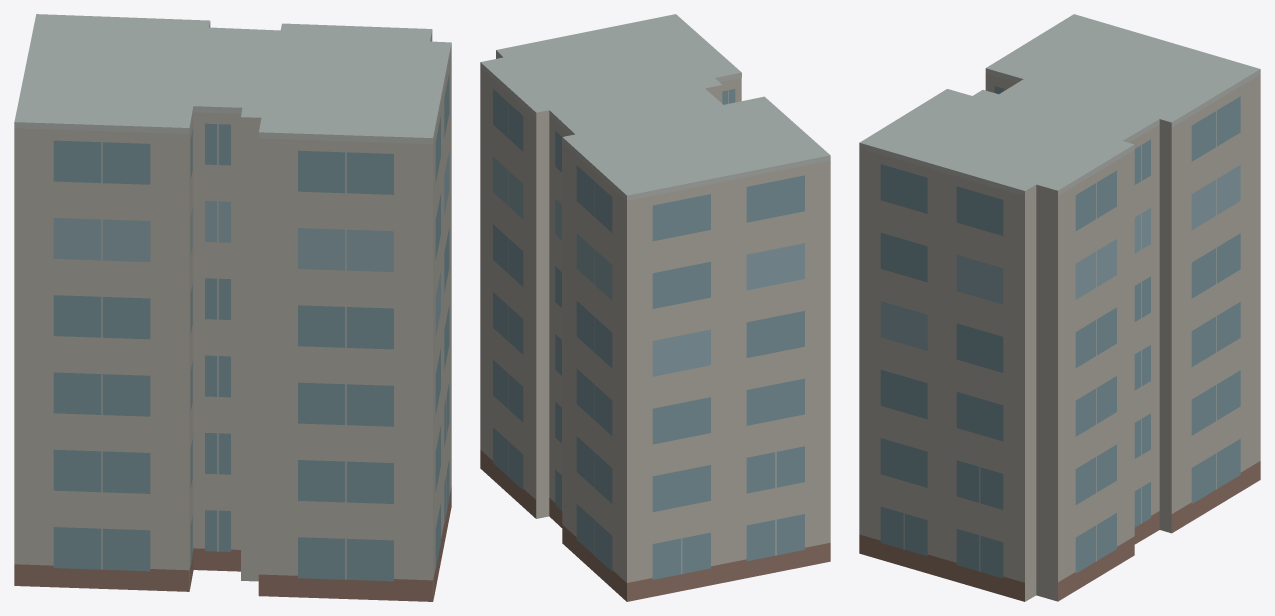
The model's file is survey-upis-32988598.glb.
3 views of the same model, side by side, from view 1: azimuth 30°, elevation 25°; view 2: azimuth 150°, elevation 25°; view 3: azimuth 270°, elevation 25° (orthographic). The views are drawn at different scales.
Parts seen in each view (by area): view 1: survey-upis-32988598.tmp; view 2: survey-upis-32988598.tmp; view 3: survey-upis-32988598.tmp.
Part boxes in pixels (left/top/right/bottom): survey-upis-32988598.tmp: left=14, top=14, right=451, bottom=601; survey-upis-32988598.tmp: left=480, top=14, right=830, bottom=601; survey-upis-32988598.tmp: left=859, top=14, right=1260, bottom=601.
Size of the model in its own units: 17.2 by 18.6 by 16.47.
